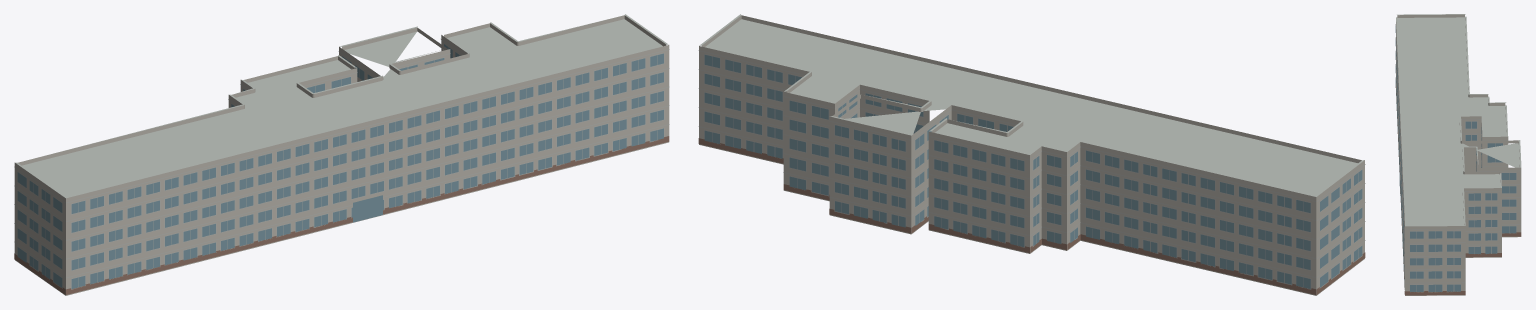
Rendered from public-c8ef842e-22ba-4eaa-863a-f839fa2e5fd0.glb.
3 views of the same model, side by side, from view 1: azimuth 30°, elevation 25°; view 2: azimuth 150°, elevation 25°; view 3: azimuth 270°, elevation 25° (orthographic). The views are drawn at different scales.
Visible parts, largest first — view 1: public-c8ef842e-22ba-4eaa-863a-f839fa2e5fd0; view 2: public-c8ef842e-22ba-4eaa-863a-f839fa2e5fd0; view 3: public-c8ef842e-22ba-4eaa-863a-f839fa2e5fd0.
Boxes of the visible parts, box(x1,y1,x2,y2) form: public-c8ef842e-22ba-4eaa-863a-f839fa2e5fd0: box(14, 14, 669, 295); public-c8ef842e-22ba-4eaa-863a-f839fa2e5fd0: box(698, 14, 1365, 295); public-c8ef842e-22ba-4eaa-863a-f839fa2e5fd0: box(1395, 14, 1521, 295).
Bounding box in the file's own units: 100 × 15.25 × 25.38.
